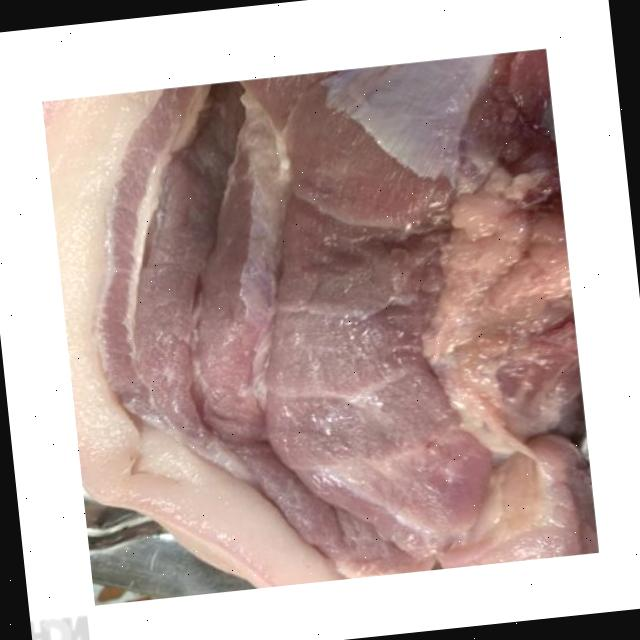rotten meat: (12, 20, 619, 618)
